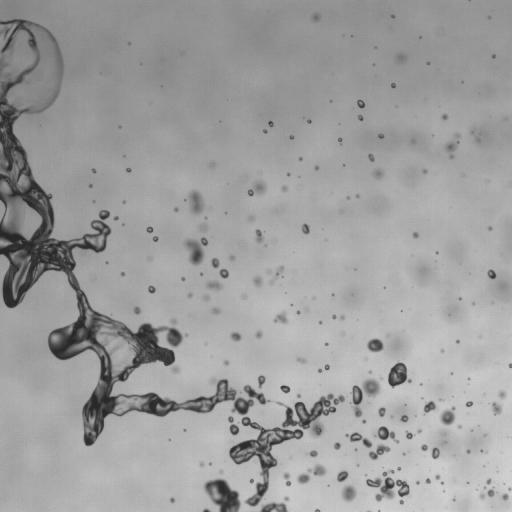droplet: (366, 469, 409, 504), (203, 478, 241, 511), (184, 237, 207, 265), (388, 361, 411, 388), (187, 189, 204, 214), (368, 443, 390, 459), (439, 406, 455, 426), (248, 181, 266, 196), (341, 485, 356, 502), (366, 338, 383, 352), (423, 401, 438, 413), (274, 311, 287, 323), (206, 281, 222, 290), (491, 402, 502, 414), (337, 470, 348, 481), (255, 229, 263, 242), (230, 332, 241, 341), (258, 375, 265, 388), (373, 169, 383, 178), (253, 276, 262, 286), (211, 257, 219, 268), (431, 447, 439, 458), (219, 269, 228, 278), (301, 224, 309, 234), (487, 269, 495, 279), (280, 385, 290, 393), (498, 390, 506, 399), (378, 407, 385, 417), (308, 450, 317, 457), (312, 13, 319, 21), (397, 55, 405, 62), (357, 100, 364, 108), (148, 285, 155, 293), (400, 415, 408, 422), (406, 431, 413, 439), (200, 224, 207, 231), (255, 331, 262, 338), (134, 306, 140, 314), (211, 308, 219, 314), (368, 154, 374, 161), (146, 226, 153, 232), (334, 442, 340, 449), (421, 444, 427, 451), (502, 493, 508, 500), (298, 358, 306, 363), (281, 185, 287, 191), (440, 430, 447, 435), (413, 232, 418, 238), (203, 295, 209, 300), (324, 364, 329, 370), (466, 401, 472, 406), (358, 115, 363, 120), (442, 114, 447, 119), (268, 121, 273, 126), (153, 236, 158, 241), (187, 293, 192, 298), (486, 479, 491, 484), (284, 496, 289, 501), (270, 278, 274, 284), (378, 134, 383, 138), (126, 168, 131, 172), (422, 169, 427, 173), (174, 207, 178, 212), (113, 216, 118, 220), (230, 255, 234, 260), (224, 360, 228, 365), (425, 479, 430, 483), (170, 497, 174, 502), (391, 83, 395, 87), (263, 129, 267, 133), (289, 135, 293, 139), (249, 216, 253, 220), (181, 277, 185, 281), (242, 294, 246, 298), (296, 310, 300, 314), (340, 315, 344, 319), (318, 320, 322, 324), (466, 449, 470, 453), (199, 462, 203, 466), (435, 475, 439, 479), (338, 138, 341, 143), (92, 168, 95, 173), (299, 157, 302, 161), (314, 166, 318, 169), (488, 226, 491, 230), (267, 270, 271, 273), (332, 315, 336, 318), (508, 363, 511, 367), (318, 369, 322, 372), (417, 429, 421, 432), (397, 466, 400, 470), (250, 479, 253, 483), (315, 509, 320, 511), (307, 120, 310, 123), (470, 131, 473, 134), (476, 138, 479, 141), (210, 163, 213, 166), (121, 272, 124, 275), (325, 342, 328, 345), (440, 349, 443, 352), (297, 394, 300, 397), (439, 398, 442, 401), (362, 420, 365, 423), (508, 487, 511, 490), (391, 15, 394, 17), (492, 55, 495, 57), (89, 184, 91, 187), (356, 195, 359, 197), (456, 340, 459, 342), (458, 425, 460, 428), (427, 62, 429, 64), (287, 173, 289, 175), (347, 197, 349, 199), (149, 257, 151, 259), (369, 371, 371, 373), (220, 471, 222, 473), (416, 481, 418, 483)
ligament: (0, 20, 345, 506), (350, 378, 380, 417), (297, 464, 326, 483), (373, 426, 398, 442), (345, 432, 371, 447), (445, 133, 460, 158), (259, 502, 287, 511), (228, 416, 239, 435), (478, 487, 495, 499), (274, 265, 284, 278), (283, 472, 290, 486), (202, 508, 210, 511), (367, 510, 370, 511), (377, 510, 380, 511)
